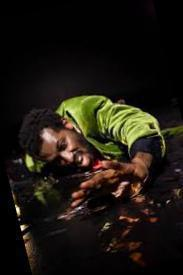Drunk: (39, 128, 92, 168)
